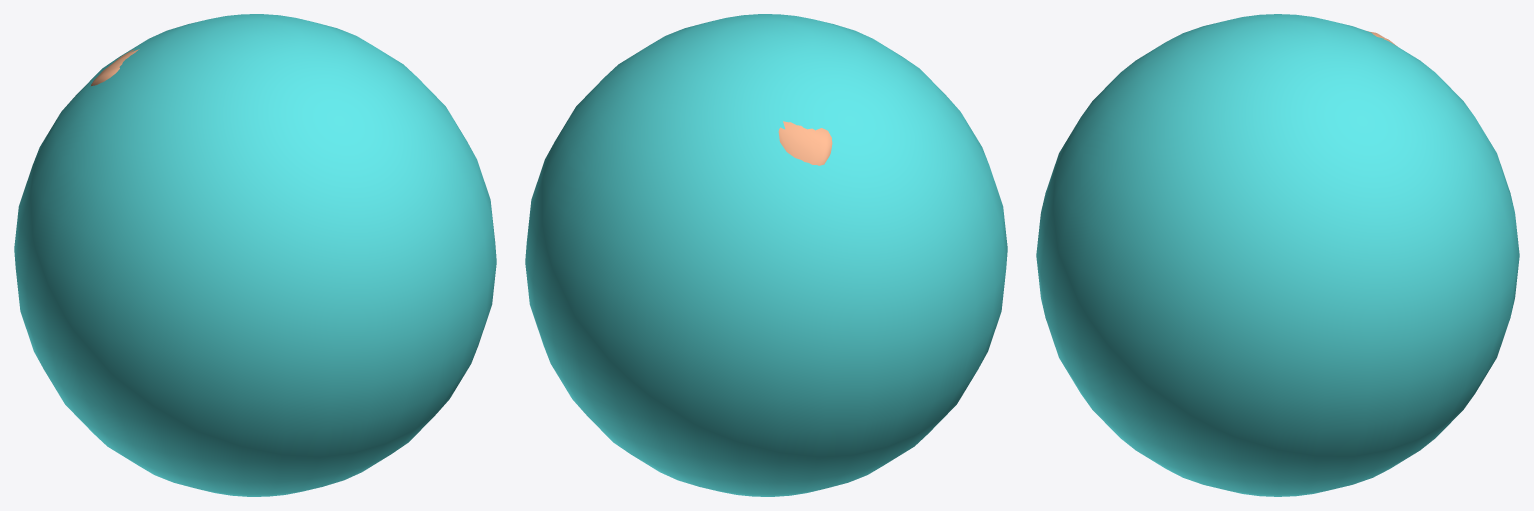
The model's file is M_Dog_slime.FBX.
3 renders of one model, left to right at view 1: azimuth 30°, elevation 25°; view 2: azimuth 150°, elevation 25°; view 3: azimuth 270°, elevation 25°, orthographic.
Visible parts, largest first — view 1: glass002; view 2: glass002, Box003; view 3: glass002.
Part boxes in pixels (x1,y1,x2,y2): glass002: [14, 14, 496, 496]; glass002: [525, 14, 1007, 496]; Box003: [778, 121, 832, 165]; glass002: [1036, 14, 1519, 496].
Size of the model in its own units: 60.65 by 60.65 by 60.65.
